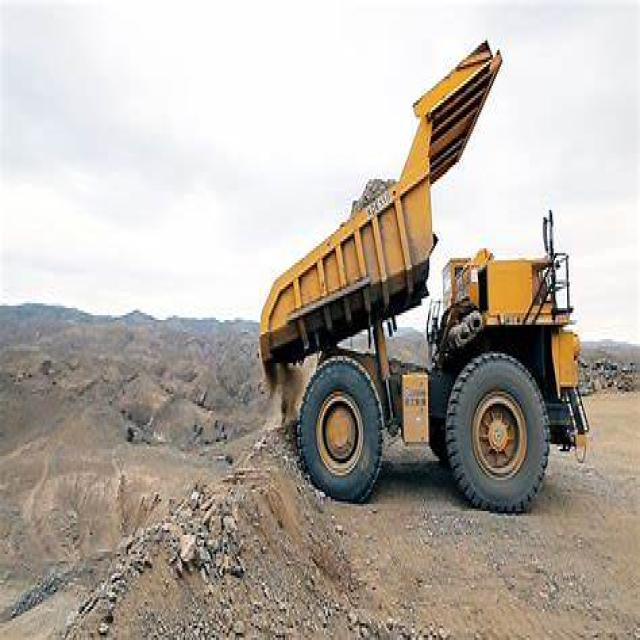dump_truck: (248, 26, 596, 518)
